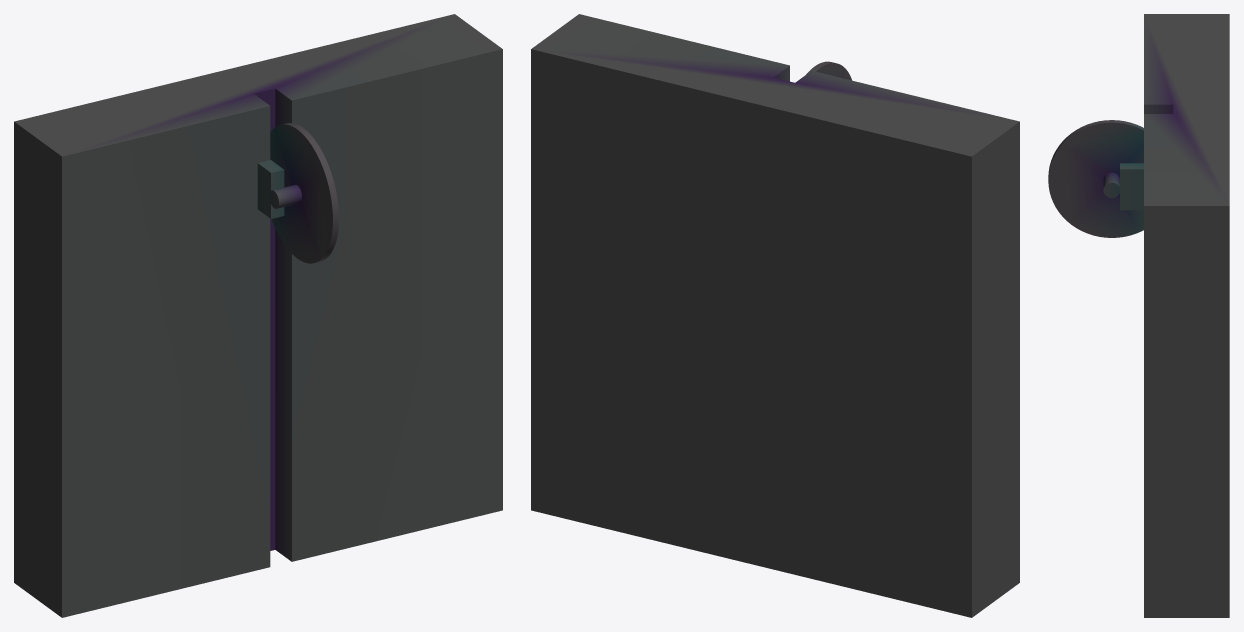
The picture shows the model from 3 angles, left to right: view 1: azimuth 30°, elevation 25°; view 2: azimuth 150°, elevation 25°; view 3: azimuth 270°, elevation 25°; orthographic projection. The views are drawn at different scales.
Parts seen in each view (by area): view 1: panel, disk, cheek.001; view 2: panel; view 3: panel, disk, cheek.
Boxes of the visible parts, box(x1,y1,x2,y2) form: panel: box(14, 14, 502, 617); disk: box(269, 123, 338, 263); cheek.001: box(257, 160, 284, 218); panel: box(531, 14, 1019, 617); panel: box(1144, 14, 1229, 617); disk: box(1048, 120, 1143, 237); cheek: box(1120, 163, 1143, 210).
Size of the model in its own units: 0.8 by 0.8 by 0.3192.
